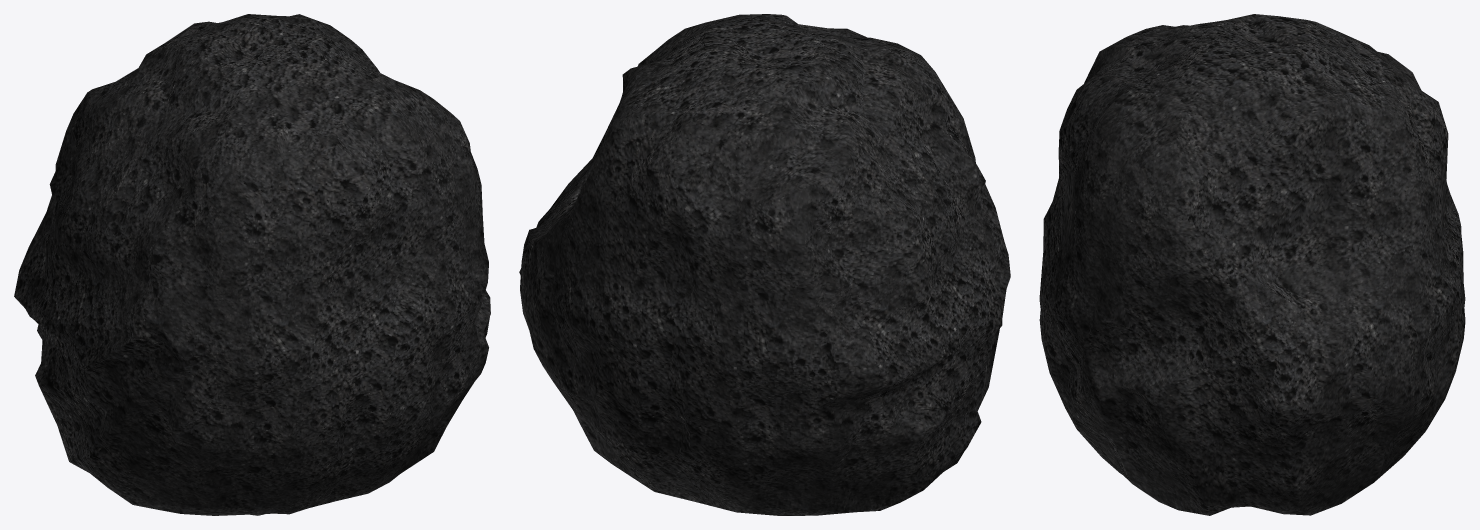
File: ArtistVolcanicRock06.fbx
3 renders of one model, left to right at view 1: azimuth 30°, elevation 25°; view 2: azimuth 150°, elevation 25°; view 3: azimuth 270°, elevation 25°, orthographic.
Visible parts, largest first — view 1: ArtistVolcanicRock06_LOD0; view 2: ArtistVolcanicRock06_LOD0; view 3: ArtistVolcanicRock06_LOD0.
Boxes of the visible parts, <box> form: ArtistVolcanicRock06_LOD0: <box>14,14,490,515</box>; ArtistVolcanicRock06_LOD0: <box>519,14,1010,515</box>; ArtistVolcanicRock06_LOD0: <box>1039,14,1465,515</box>.
Size of what is drawn, in the model's own units: 2.75 by 2.8 by 2.36.
1 material, 1 textured.
